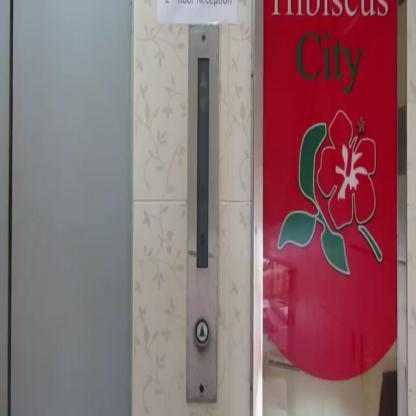up: (194, 318, 209, 347)
